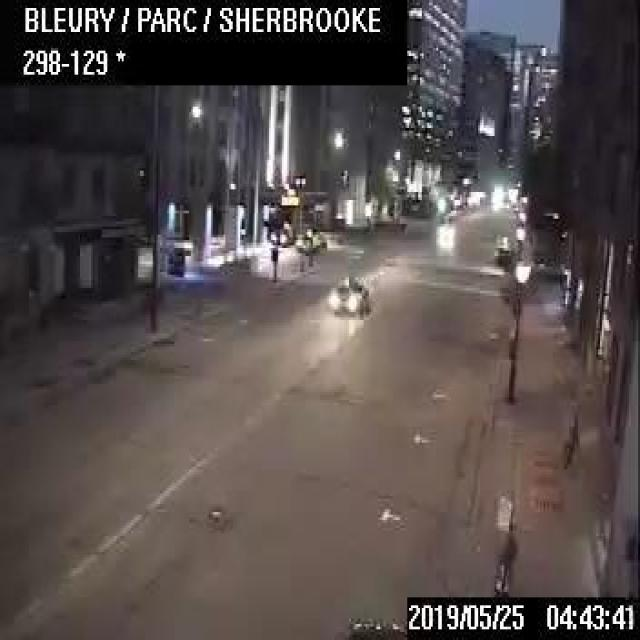vehicle: (326, 274, 368, 314)
